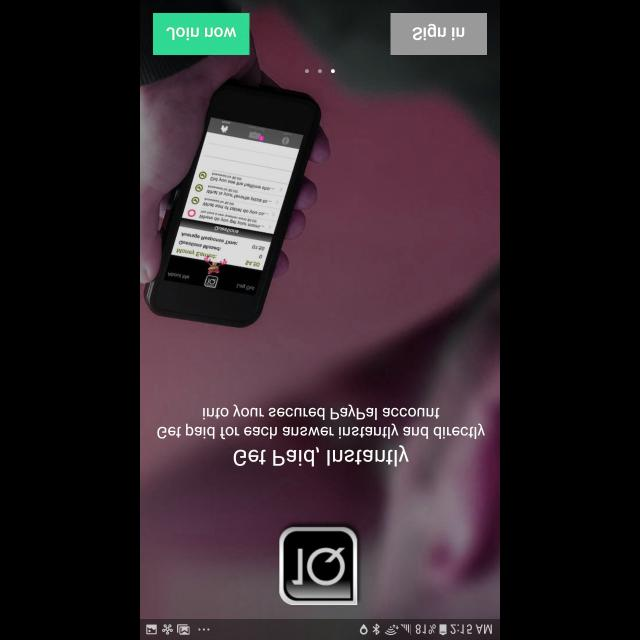backgroundimage: (140, 0, 500, 618)
image: (278, 526, 358, 606)
pageindicator: (304, 68, 336, 74)
text: (158, 404, 486, 438), (234, 445, 408, 467)
textbutton: (389, 13, 486, 55), (154, 13, 250, 55)
uppertaskbar: (140, 618, 500, 640)
